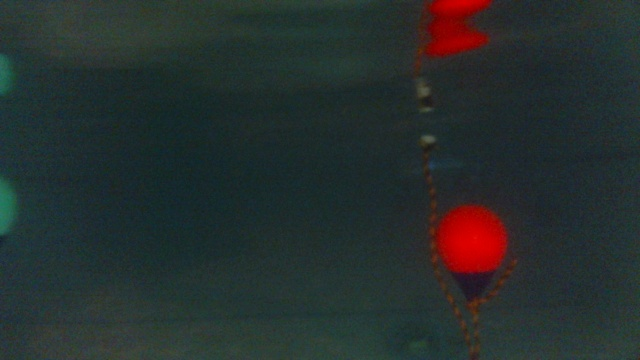buoy_red: (431, 201, 509, 301)
